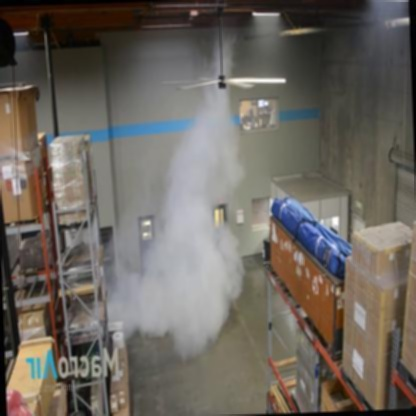smoke: (133, 87, 242, 355)
